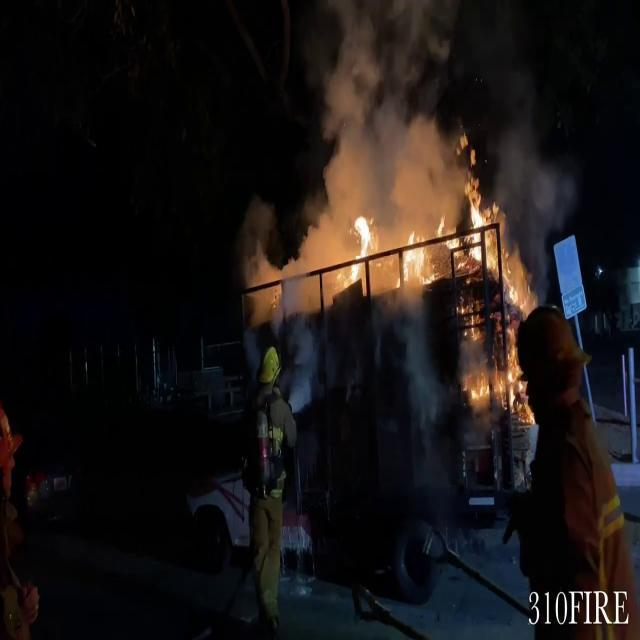Fire: (454, 180, 530, 418), (342, 207, 443, 293)
Smoke: (296, 0, 476, 268)
